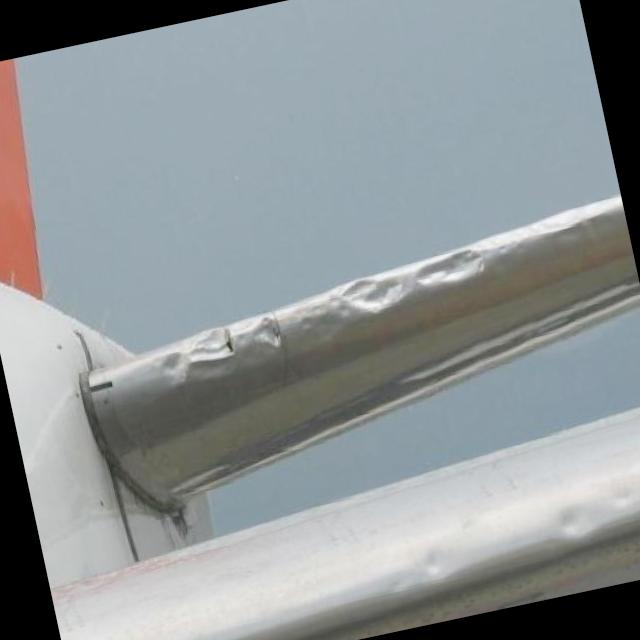dent: (343, 270, 412, 318), (411, 247, 488, 290), (549, 500, 592, 540), (154, 346, 197, 384), (192, 329, 232, 368), (252, 314, 282, 348), (421, 546, 445, 576), (612, 488, 638, 506), (294, 306, 312, 330), (331, 292, 349, 314), (314, 304, 325, 317)
